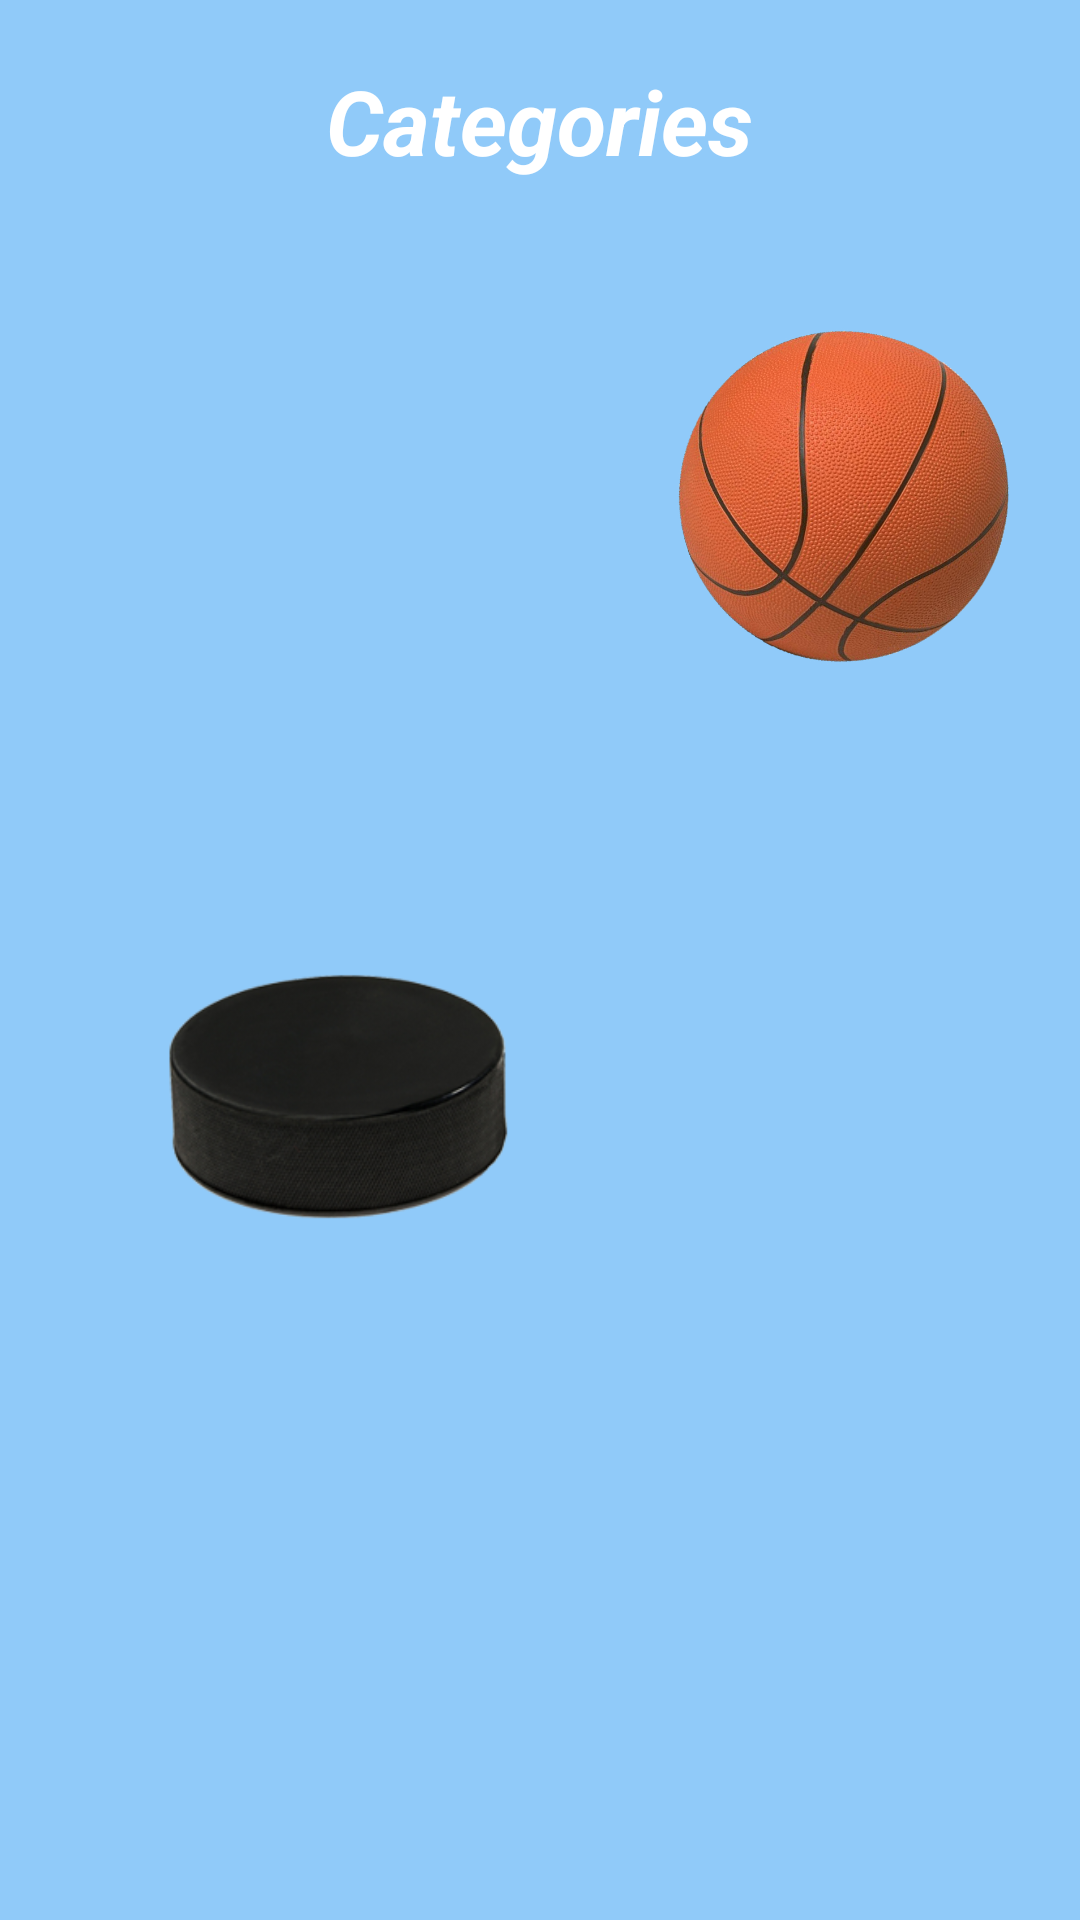

Screen size 1080x1920. Icon name, then its center in pixels as point (x, y):
basket: point (844, 496)
hockey: point (338, 1096)
